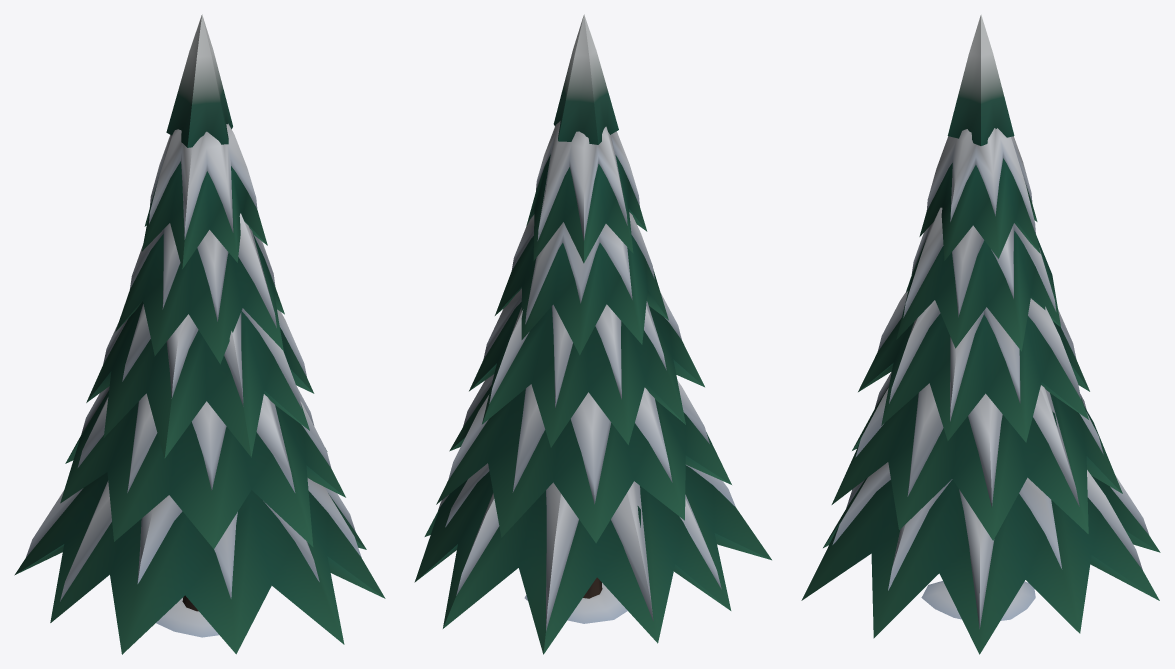
The model's file is pine_tree.glb.
3 renders of one model, left to right at view 1: azimuth 30°, elevation 25°; view 2: azimuth 150°, elevation 25°; view 3: azimuth 270°, elevation 25°, orthographic. The views are drawn at different scales.
Parts seen in each view (by area): view 1: pine_tree; view 2: pine_tree; view 3: pine_tree.
Boxes of the visible parts, <box> form: pine_tree: <box>14,14,385,654</box>; pine_tree: <box>414,14,771,654</box>; pine_tree: <box>801,14,1160,654</box>.
Size of the model in its own units: 4.67 by 8.45 by 4.72.
